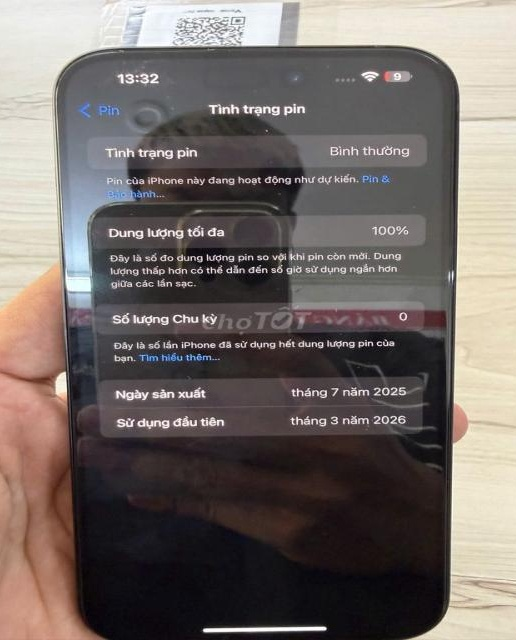scratch: (201, 45, 222, 55), (112, 44, 128, 55)
